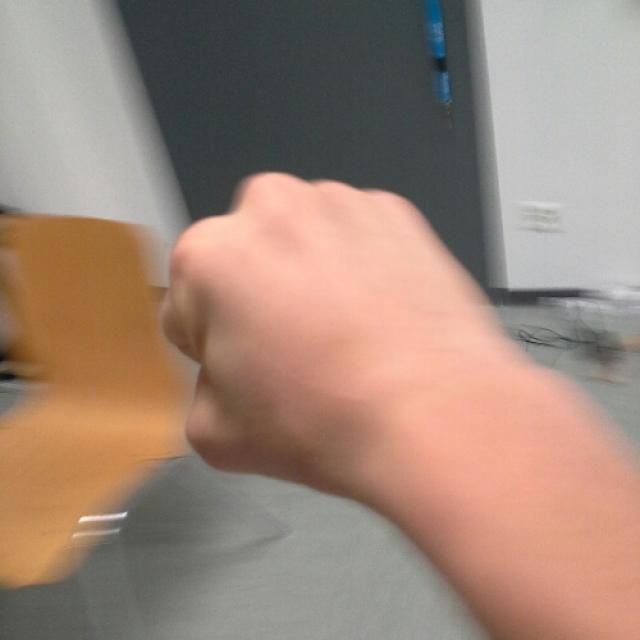rock: (161, 170, 480, 502)
